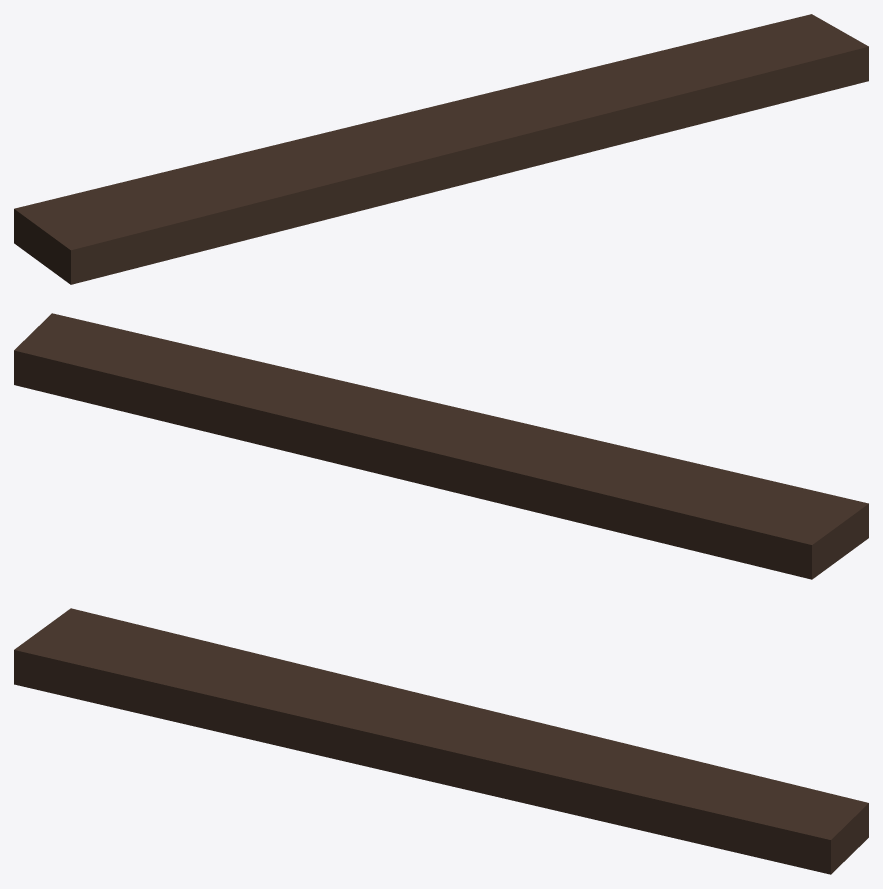
The model's file is Plank_Long_1.fbx.
3 views of the same model, one above another, from view 1: azimuth 30°, elevation 25°; view 2: azimuth 150°, elevation 25°; view 3: azimuth 330°, elevation 25° (orthographic).
Parts seen in each view (by area): view 1: Plank_Long_1; view 2: Plank_Long_1; view 3: Plank_Long_1.
Part boxes in pixels (x1,y1,x2,y2): Plank_Long_1: (14, 14, 868, 284); Plank_Long_1: (14, 313, 868, 579); Plank_Long_1: (14, 608, 868, 874).
Size of the model in its own units: 305 by 12.48 by 37.22.
